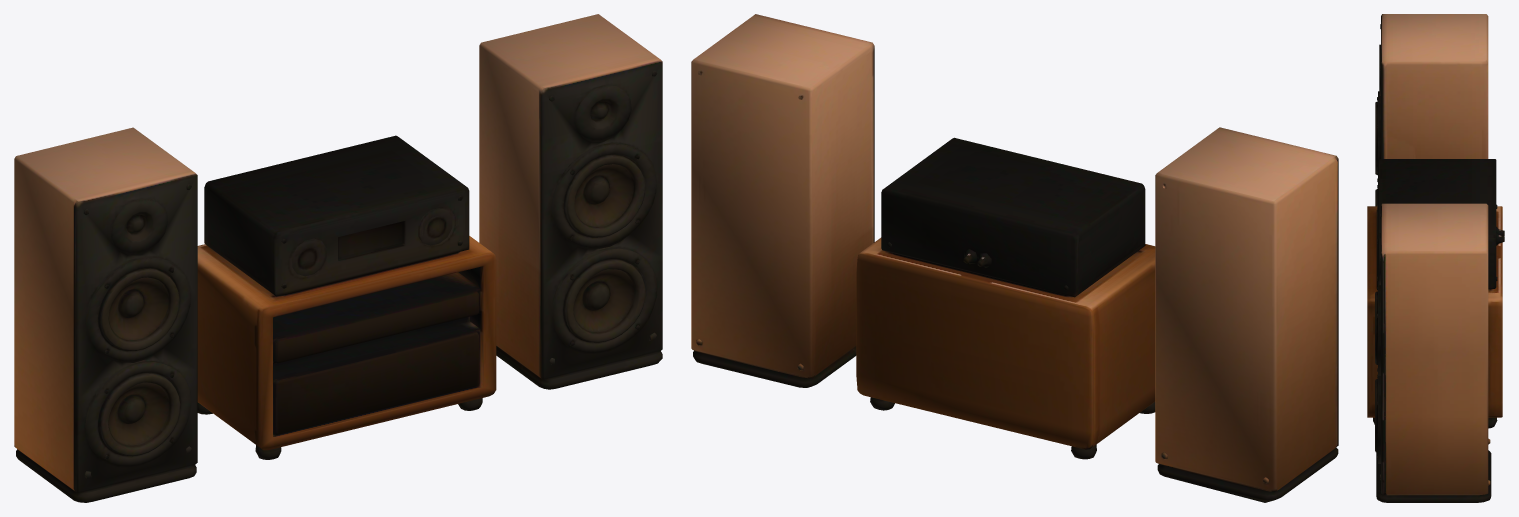
File: hi-fi_sound_system_2a2cc620_v4.glb
3 renders of one model, left to right at view 1: azimuth 30°, elevation 25°; view 2: azimuth 150°, elevation 25°; view 3: azimuth 270°, elevation 25°, orthographic. The views are drawn at different scales.
Visible parts, largest first — view 1: material; view 2: material; view 3: material.
Part boxes in pixels (x1,y1,x2,y2): material: (14, 14, 662, 502); material: (691, 14, 1338, 502); material: (1367, 14, 1504, 502).
Size of the model in its own units: 1.9 by 0.9284 by 0.4589.
Materials: 1 (1 with a texture image).
